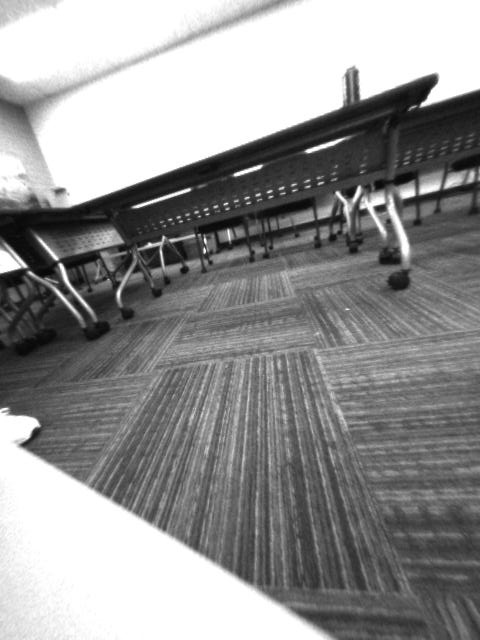can: (341, 64, 362, 106)
